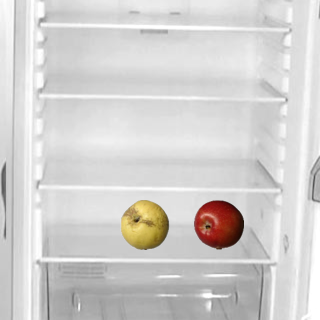Apple Braeburn: (193, 199, 243, 249)
Apple Golden 1: (119, 199, 169, 249)
